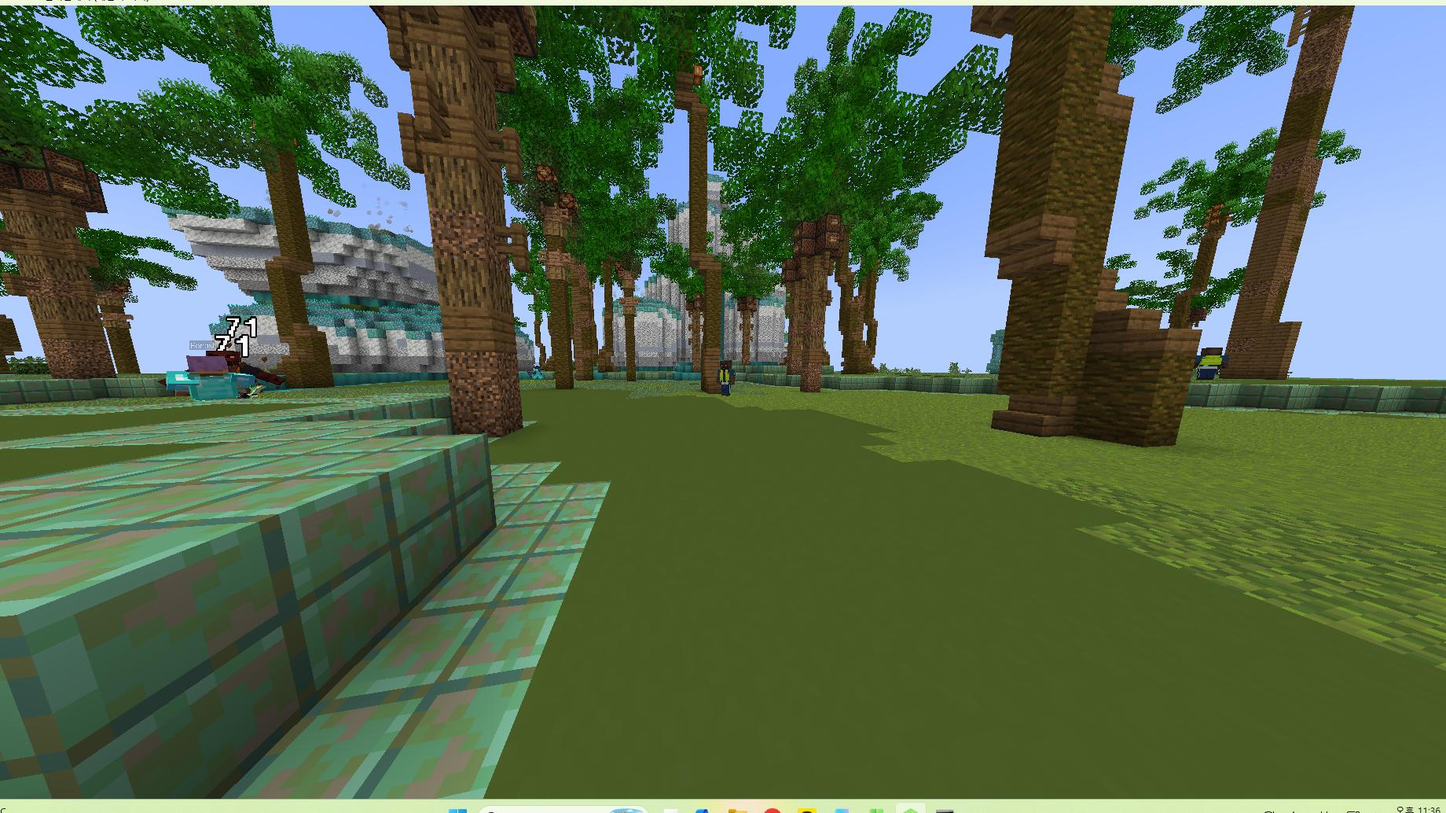Guardian: (714, 359, 734, 395)
